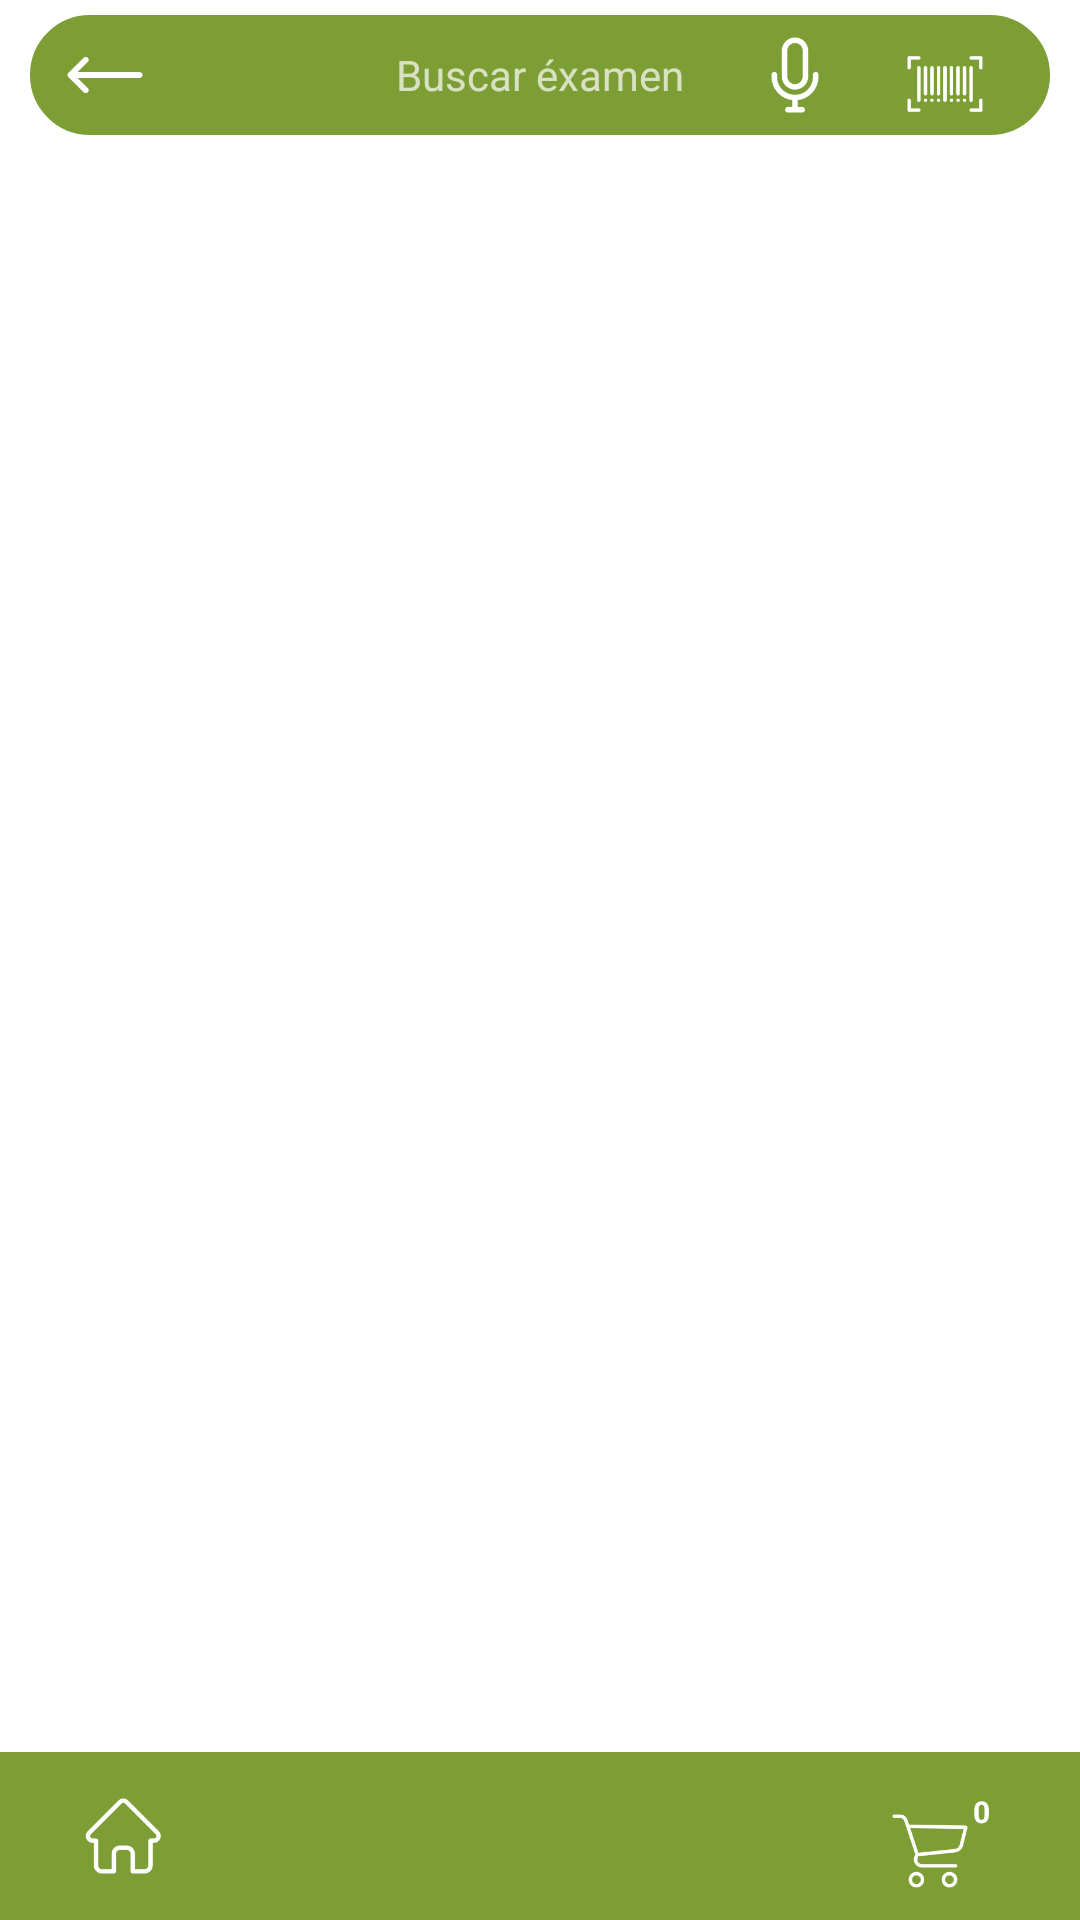

Where to tap for icons on this 1080px×1920px app screen, as (x,y):
barcode: (945,75)
comprasdef: (940,1844)
home: (123,1836)
microfono: (795,75)
regresarflecha: (105,75)
